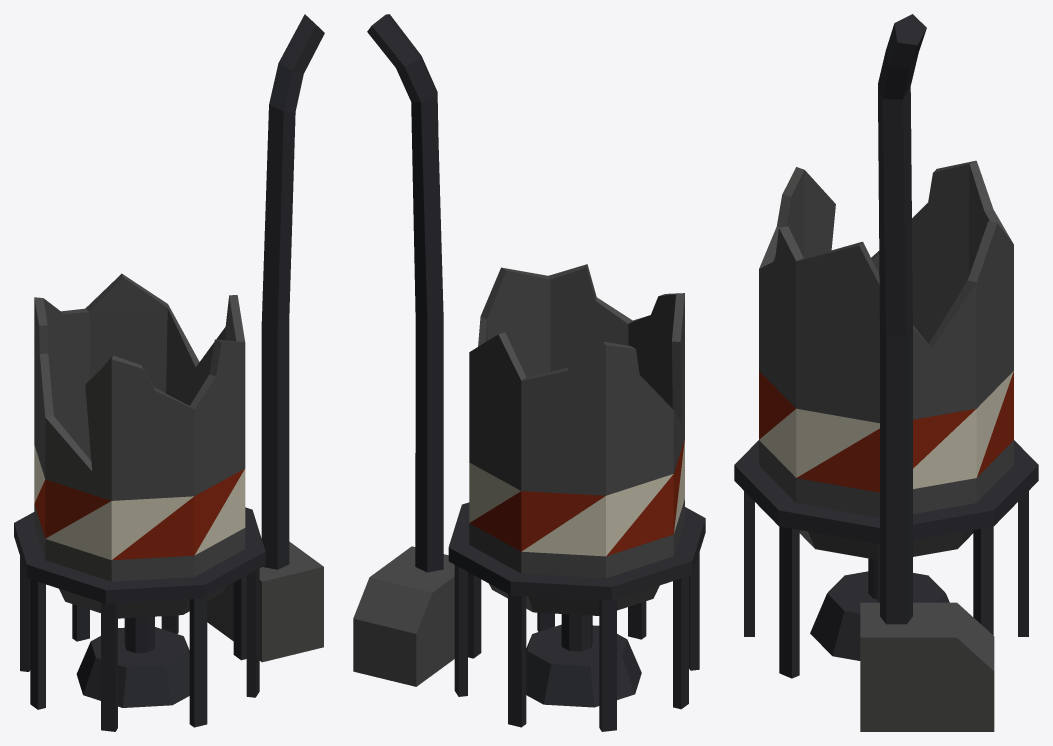
Rendered from LPWarPack_DistillationColumn_Exploded.fbx.
3 views of the same model, side by side, from view 1: azimuth 30°, elevation 25°; view 2: azimuth 150°, elevation 25°; view 3: azimuth 270°, elevation 25° (orthographic). The views are drawn at different scales.
Visible parts, largest first — view 1: DistillationColumn_Exploded; view 2: DistillationColumn_Exploded; view 3: DistillationColumn_Exploded.
Boxes of the visible parts, x1=… form: DistillationColumn_Exploded: x1=14, y1=14, x2=324, y2=731; DistillationColumn_Exploded: x1=353, y1=14, x2=705, y2=731; DistillationColumn_Exploded: x1=734, y1=14, x2=1038, y2=731.
Size of the model in its own units: 229 by 442 by 169.
